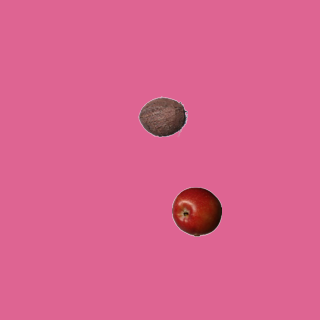Apple Braeburn: (171, 186, 221, 236)
Cocos: (137, 91, 187, 141)
